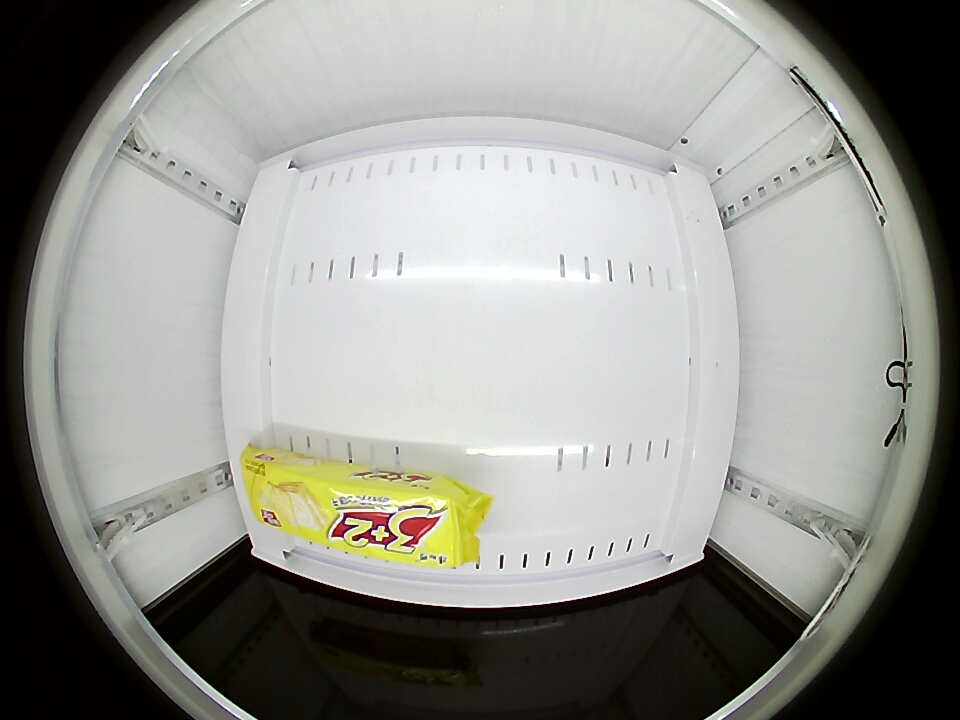3+2-2: (246, 459, 471, 571)
